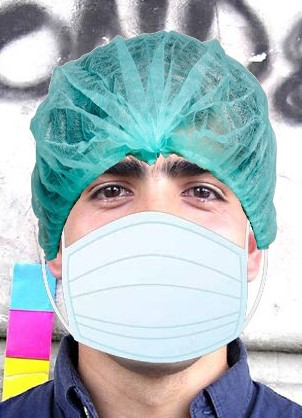with_mask_and_cap: (33, 31, 267, 367)
